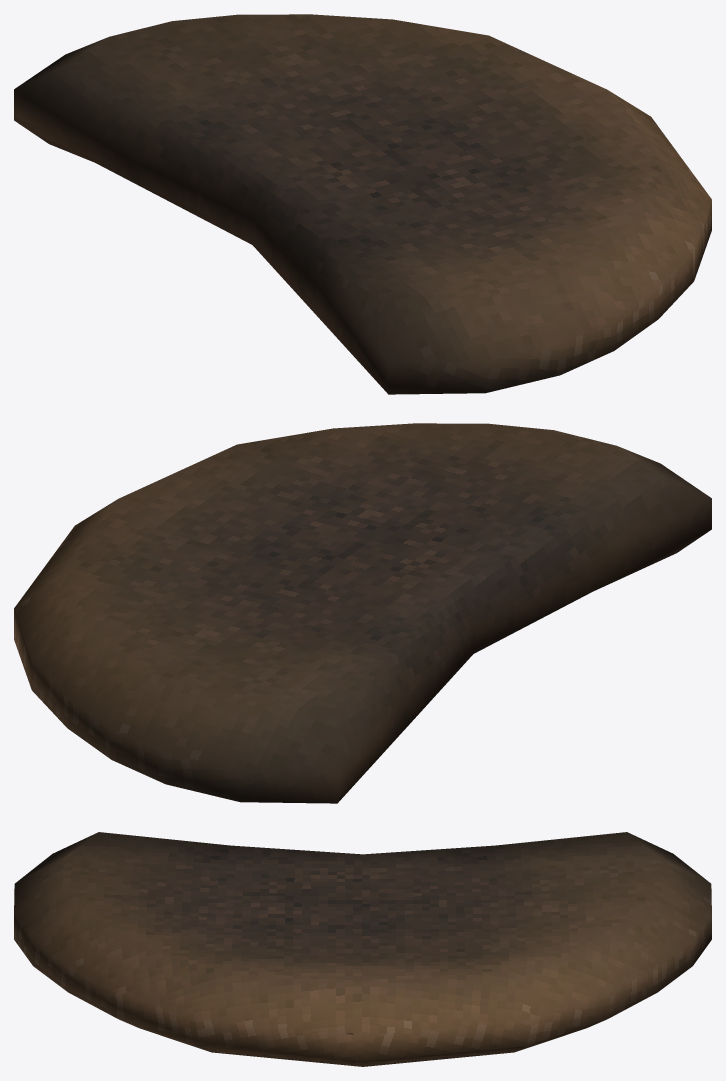
Rendered from WallMushrooms.glb.
3 renders of one model, top to bottom at view 1: azimuth 30°, elevation 25°; view 2: azimuth 150°, elevation 25°; view 3: azimuth 270°, elevation 25°, orthographic. The views are drawn at different scales.
Parts seen in each view (by area): view 1: Cube; view 2: Cube; view 3: Cube.
Boxes of the visible parts, x1,y1,x2,y2 form: Cube: (14,14,711,394); Cube: (14,423,711,803); Cube: (14,832,711,1066).
Bounding box in the file's own units: 4.64 × 0.8395 × 7.53.
1 material, 1 textured.
